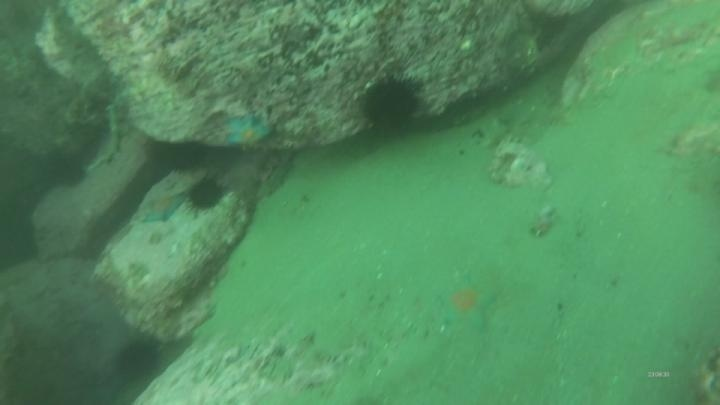echinus: (355, 70, 427, 139), (113, 333, 165, 382), (40, 146, 89, 191), (184, 174, 227, 214)
starfish: (436, 273, 500, 335), (220, 110, 275, 152), (138, 187, 188, 226)
